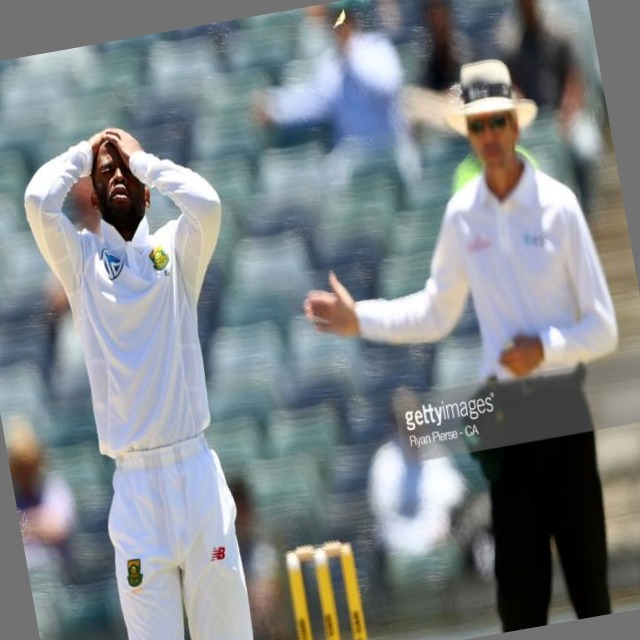No_Ball: (258, 32, 640, 640)
